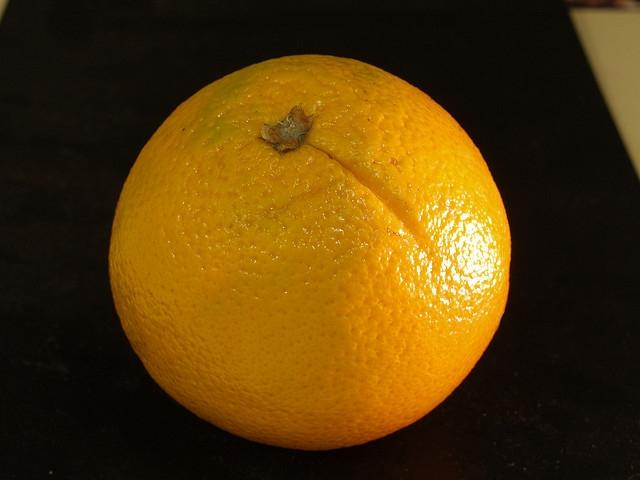orange: (109, 54, 512, 451)
